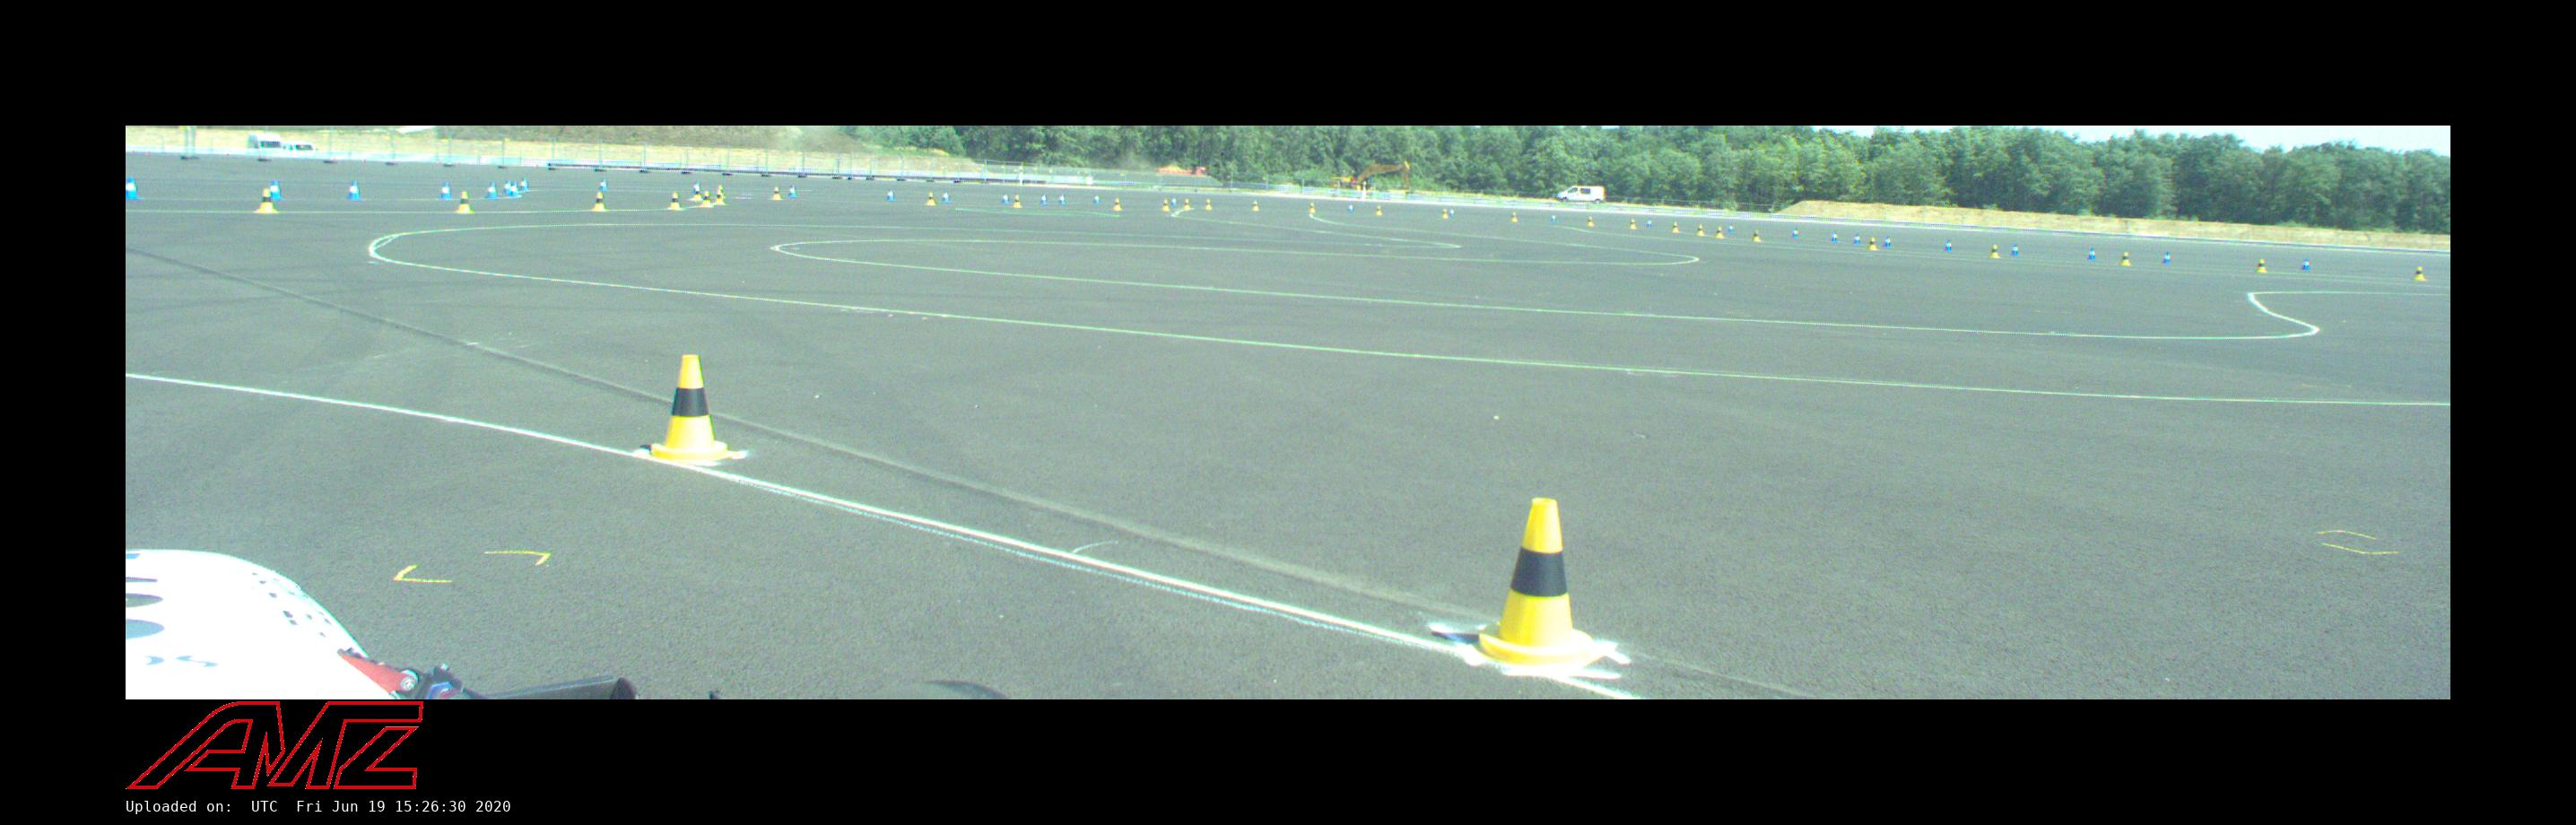blue_cone: (127, 176, 141, 199), (347, 182, 363, 199), (271, 181, 284, 199), (439, 182, 452, 199), (485, 182, 498, 199), (508, 182, 518, 196), (2086, 248, 2096, 260), (2011, 243, 2019, 256), (885, 191, 895, 200), (941, 191, 950, 202), (2162, 251, 2170, 263), (789, 186, 797, 196), (1058, 194, 1066, 204), (1945, 240, 1953, 250), (2302, 260, 2310, 270), (600, 179, 608, 189), (1040, 194, 1046, 204), (1884, 237, 1891, 247), (521, 179, 527, 189), (504, 181, 509, 194), (1002, 192, 1009, 202), (1832, 232, 1837, 242), (1855, 233, 1860, 243), (1646, 220, 1653, 227), (1792, 228, 1797, 237), (1094, 194, 1099, 202), (1171, 197, 1176, 205), (1451, 209, 1456, 217), (1551, 214, 1556, 222), (1728, 224, 1733, 232), (1349, 204, 1352, 210)
yellow_cone: (1462, 498, 1617, 677), (642, 355, 738, 465), (256, 189, 278, 212), (457, 192, 471, 212), (593, 192, 606, 210), (669, 192, 680, 209), (701, 191, 711, 207), (2256, 260, 2267, 271), (1866, 238, 1878, 250), (2415, 266, 2425, 279), (715, 191, 724, 204), (1990, 245, 1999, 258), (2121, 251, 2131, 265), (1751, 230, 1761, 242), (774, 187, 782, 199), (693, 189, 701, 200), (1715, 227, 1723, 238), (928, 192, 935, 204), (1014, 196, 1020, 207), (1114, 199, 1120, 210), (1206, 199, 1212, 209), (1697, 225, 1704, 235), (1672, 222, 1679, 232), (1630, 219, 1636, 228), (1511, 212, 1518, 222), (1587, 217, 1594, 225), (1163, 200, 1168, 210), (1184, 199, 1189, 209), (1442, 209, 1447, 219), (1309, 202, 1314, 212), (1254, 200, 1258, 210), (1377, 207, 1382, 214)
